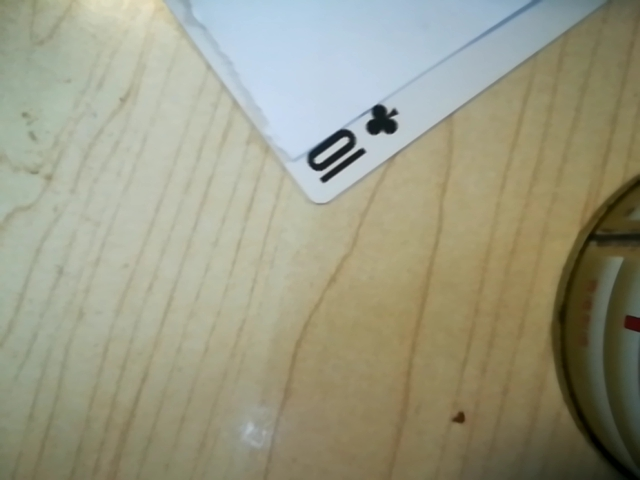mh 10: (298, 98, 419, 192)
